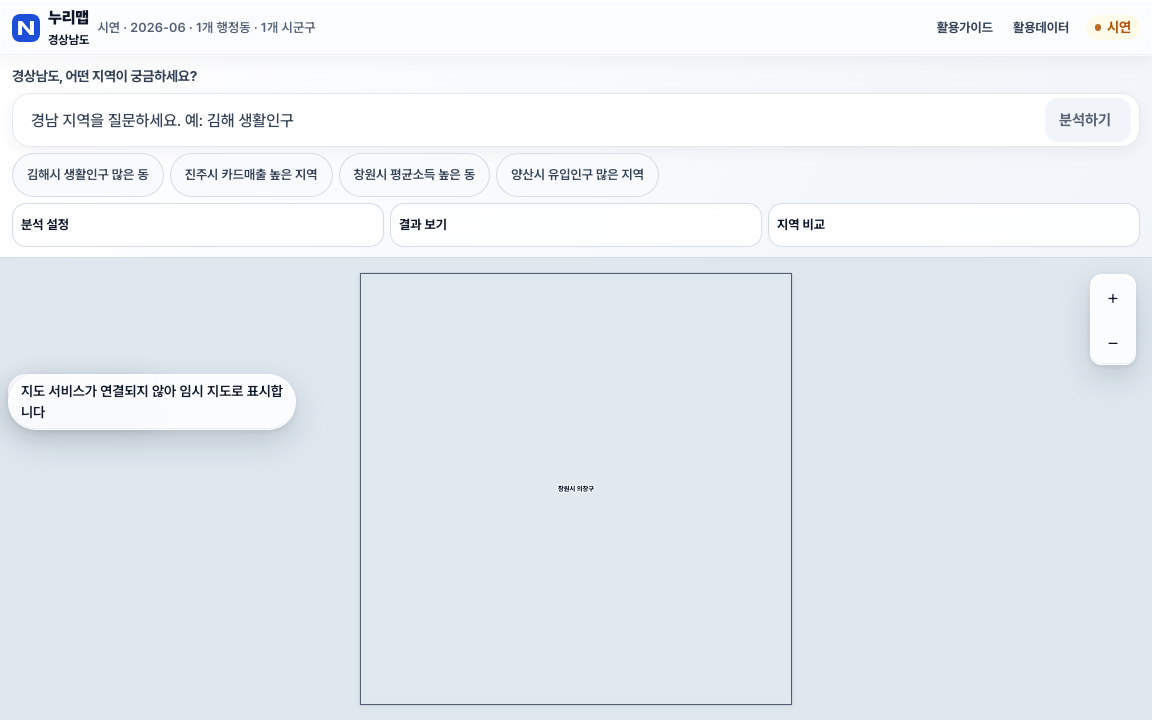
CopilotApp › 직접 큐브 질의는 진행 중인 배경 요청을 기다리지 않는다
Check: the text "경상남도 · 시군구 경계" is shown, box [8, 374, 157, 409]
Step 1. Type "카드매출 높은 동" into the field named "분석 질의" → {"x": 576, "y": 120}, box [13, 94, 1139, 146]
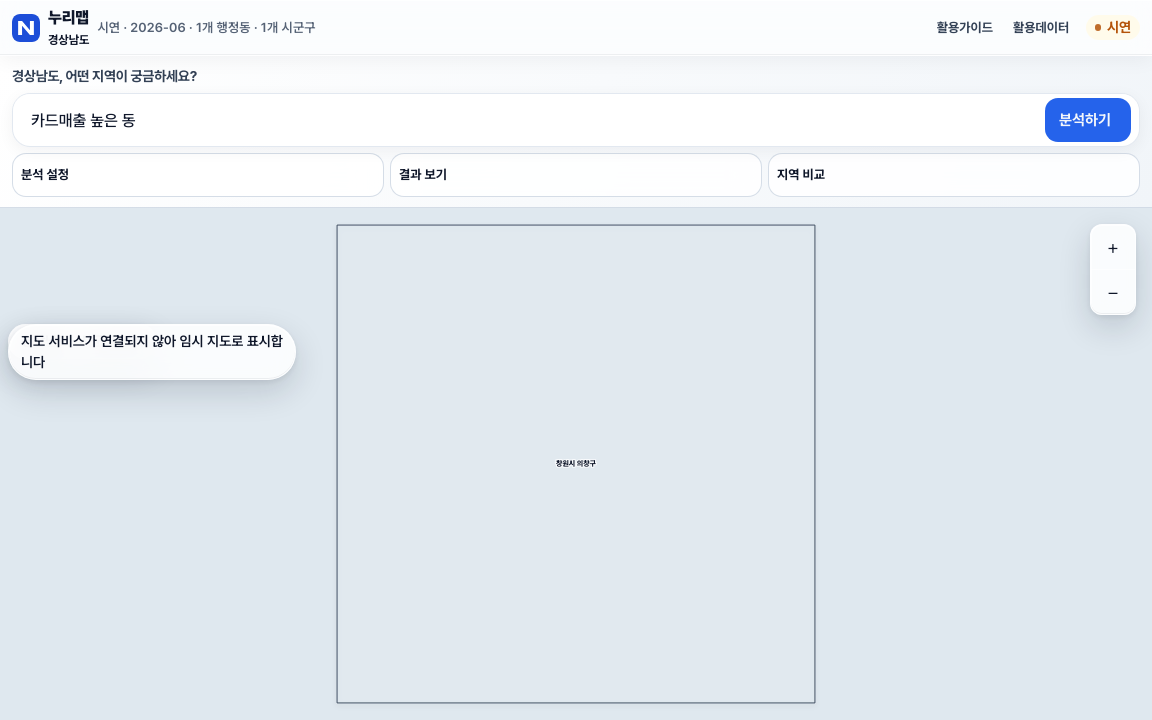
Step 2. Click the button with aria-label "질의 실행" → {"x": 1088, "y": 120}, box [1045, 98, 1131, 142]
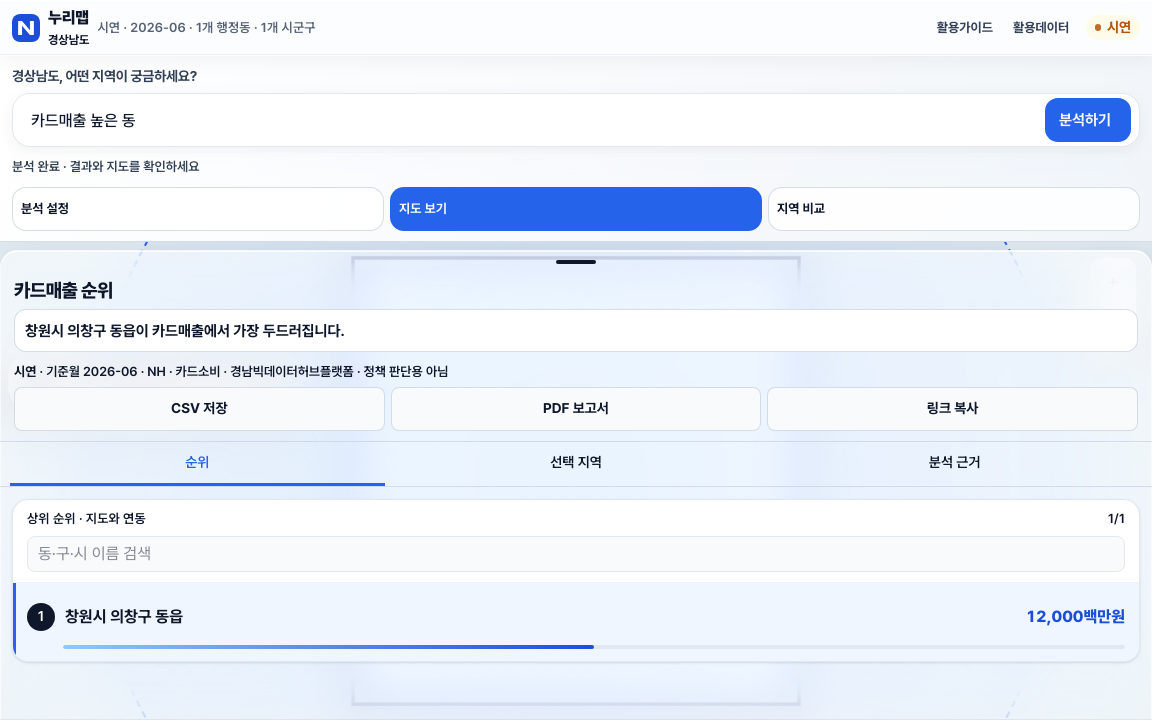
Check: the button with test id "export-csv" is shown, box [14, 387, 385, 431]
Check: the element with test id "result-panel" shows "카드매출", box [14, 279, 113, 302]
